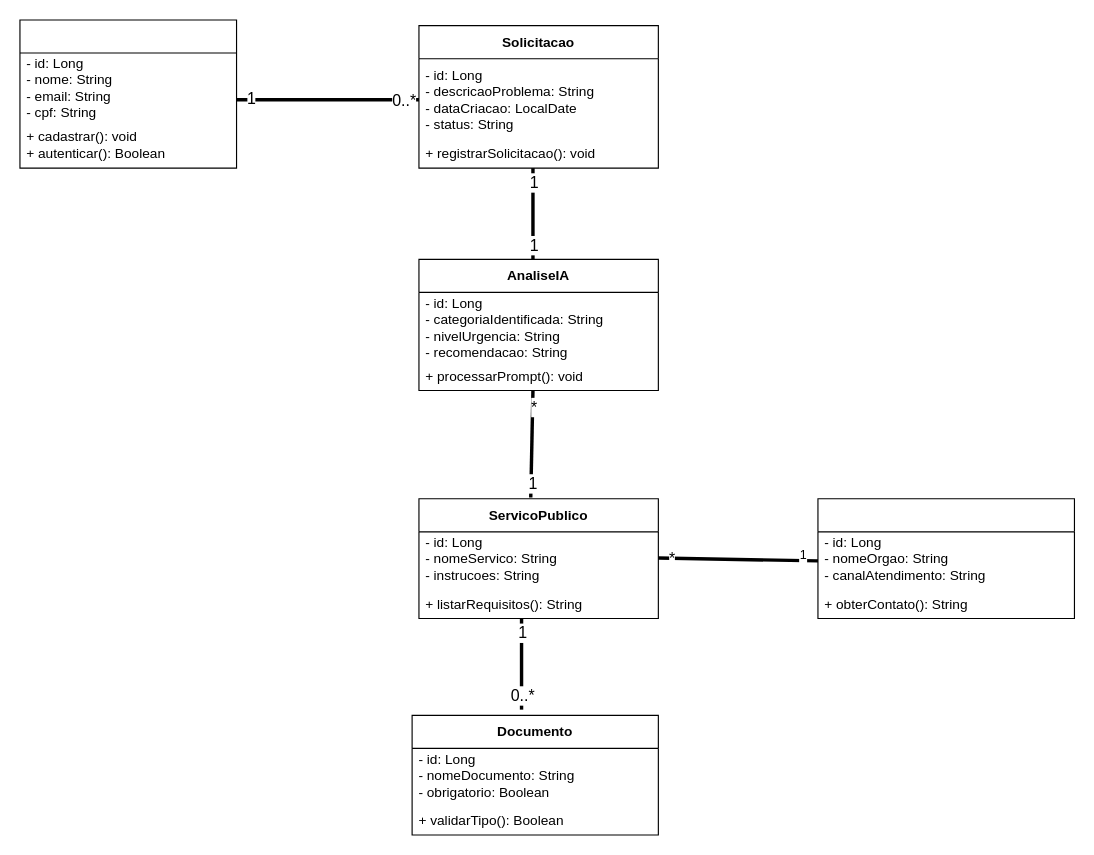
This 1094x855 diagram has some shape labels left out. Each missing label, with the box of its shape:
OrgaoPublico: (817, 498, 1074, 618)
Usuario: (19, 19, 237, 168)
